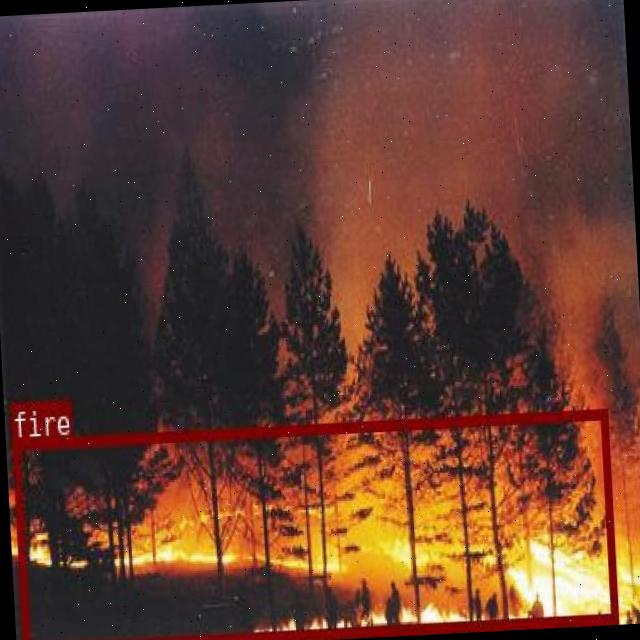fire: (11, 408, 616, 640)
